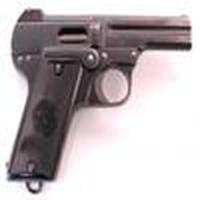gun: (7, 8, 199, 188)
